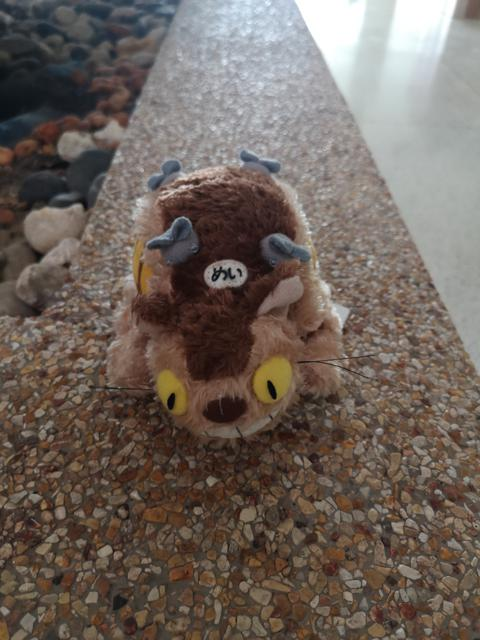nekobus: (102, 147, 356, 456)
